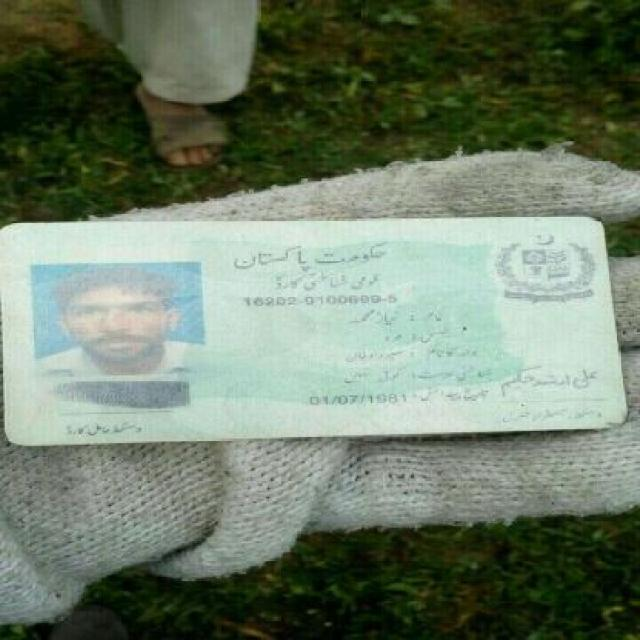Front: (2, 217, 626, 446)
